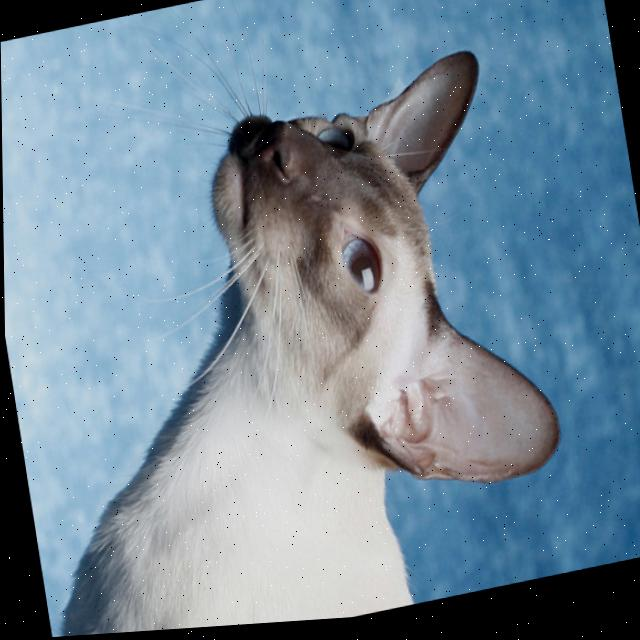Siamese: (1, 38, 584, 640)
